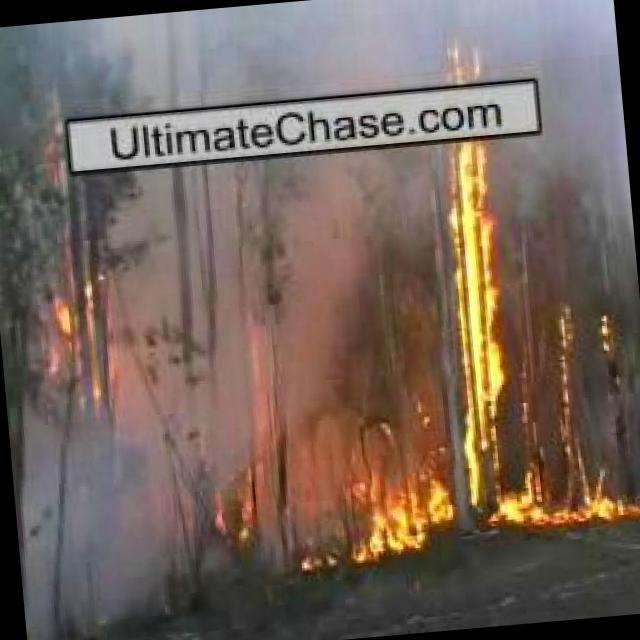Fire: (441, 140, 533, 546), (34, 256, 116, 413), (338, 472, 454, 572), (202, 464, 256, 552), (556, 487, 640, 524)
Smoke: (102, 154, 458, 470), (0, 0, 619, 128), (9, 429, 188, 640)
